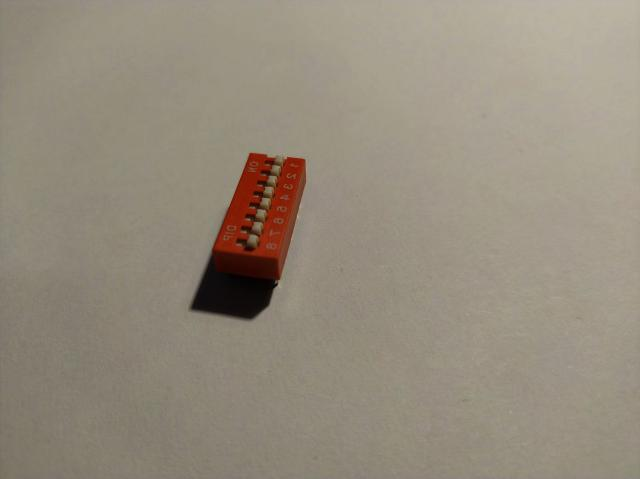dip_switch: (212, 153, 306, 287)
